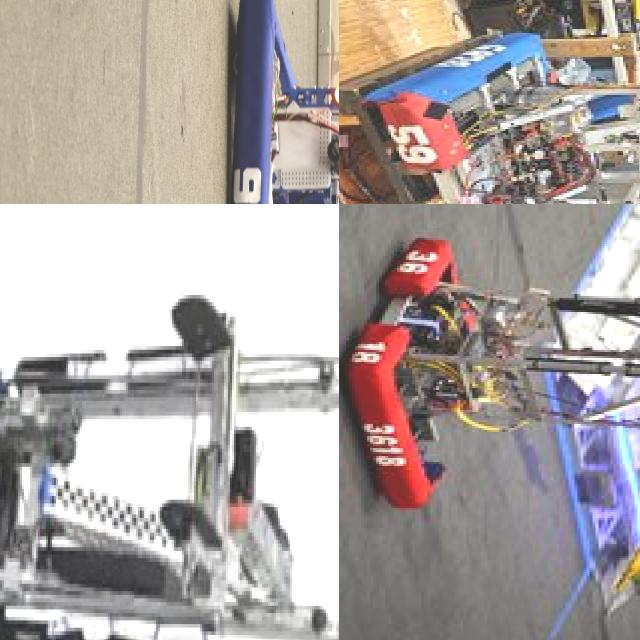FRC-Robots: (0, 204, 339, 640), (339, 269, 640, 520), (379, 28, 640, 204), (131, 0, 339, 204)
